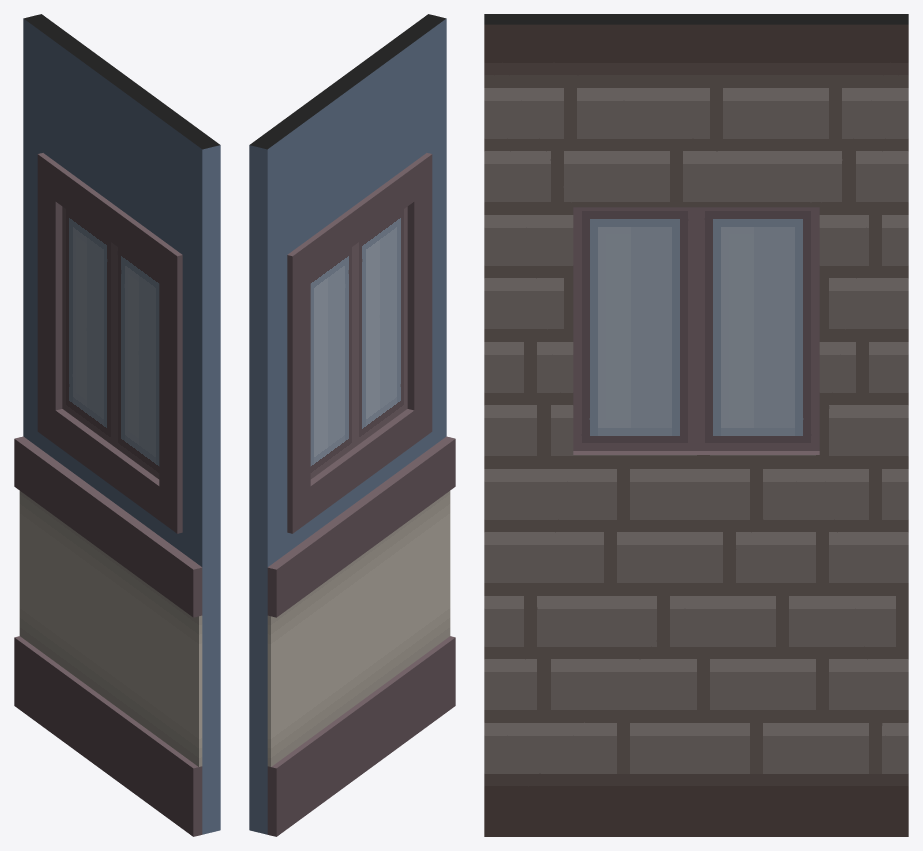
Rendered from mesh_wall_window.glb.
3 renders of one model, left to right at view 1: azimuth 30°, elevation 25°; view 2: azimuth 150°, elevation 25°; view 3: azimuth 270°, elevation 25°, orthographic. The views are drawn at different scales.
Visible parts, largest first — view 1: mesh_wall_window_mat_wall_inside_1_0; view 2: mesh_wall_window_mat_wall_inside_1_0; view 3: mesh_wall_window_mat_wall_inside_1_0.
Boxes of the visible parts, left/top/right/bottom form: mesh_wall_window_mat_wall_inside_1_0: left=14, top=14, right=220, bottom=836; mesh_wall_window_mat_wall_inside_1_0: left=249, top=14, right=455, bottom=836; mesh_wall_window_mat_wall_inside_1_0: left=484, top=14, right=908, bottom=836.
Bounding box in the file's own units: 0.1441 × 3.46 × 1.64.
Materials: 3 (3 with a texture image).
